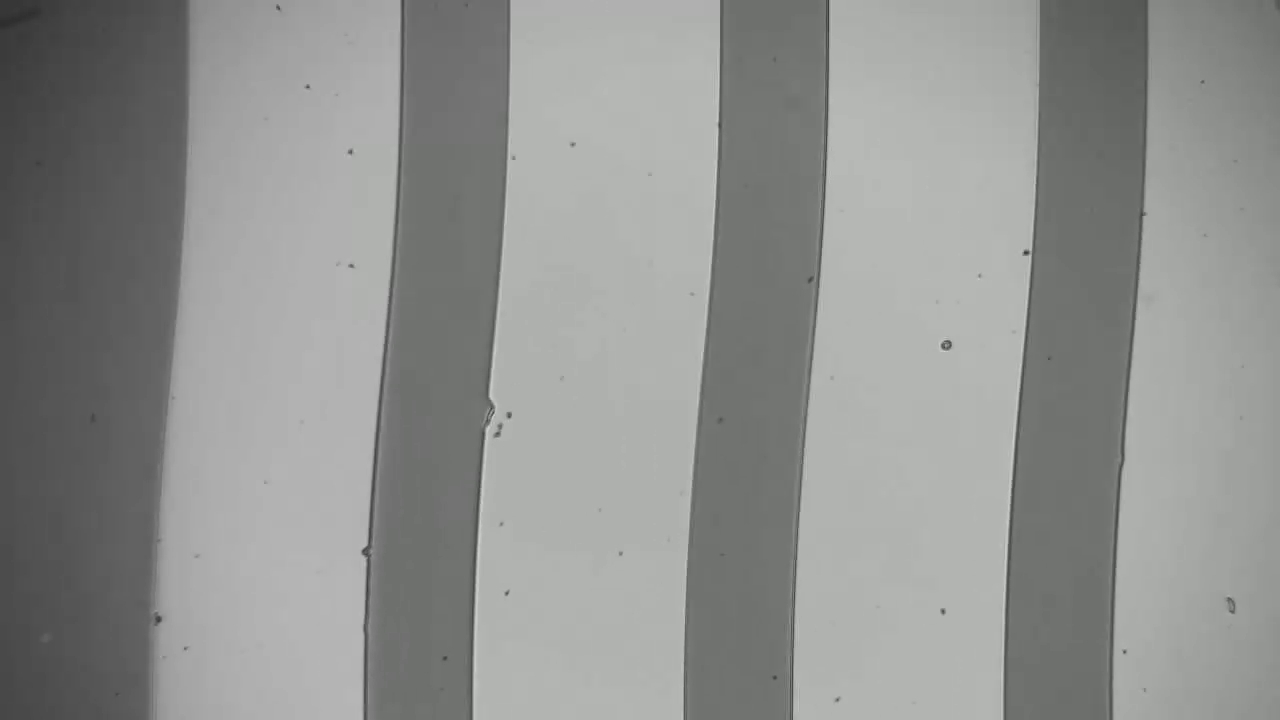edge_bite: (475, 391, 510, 432)
